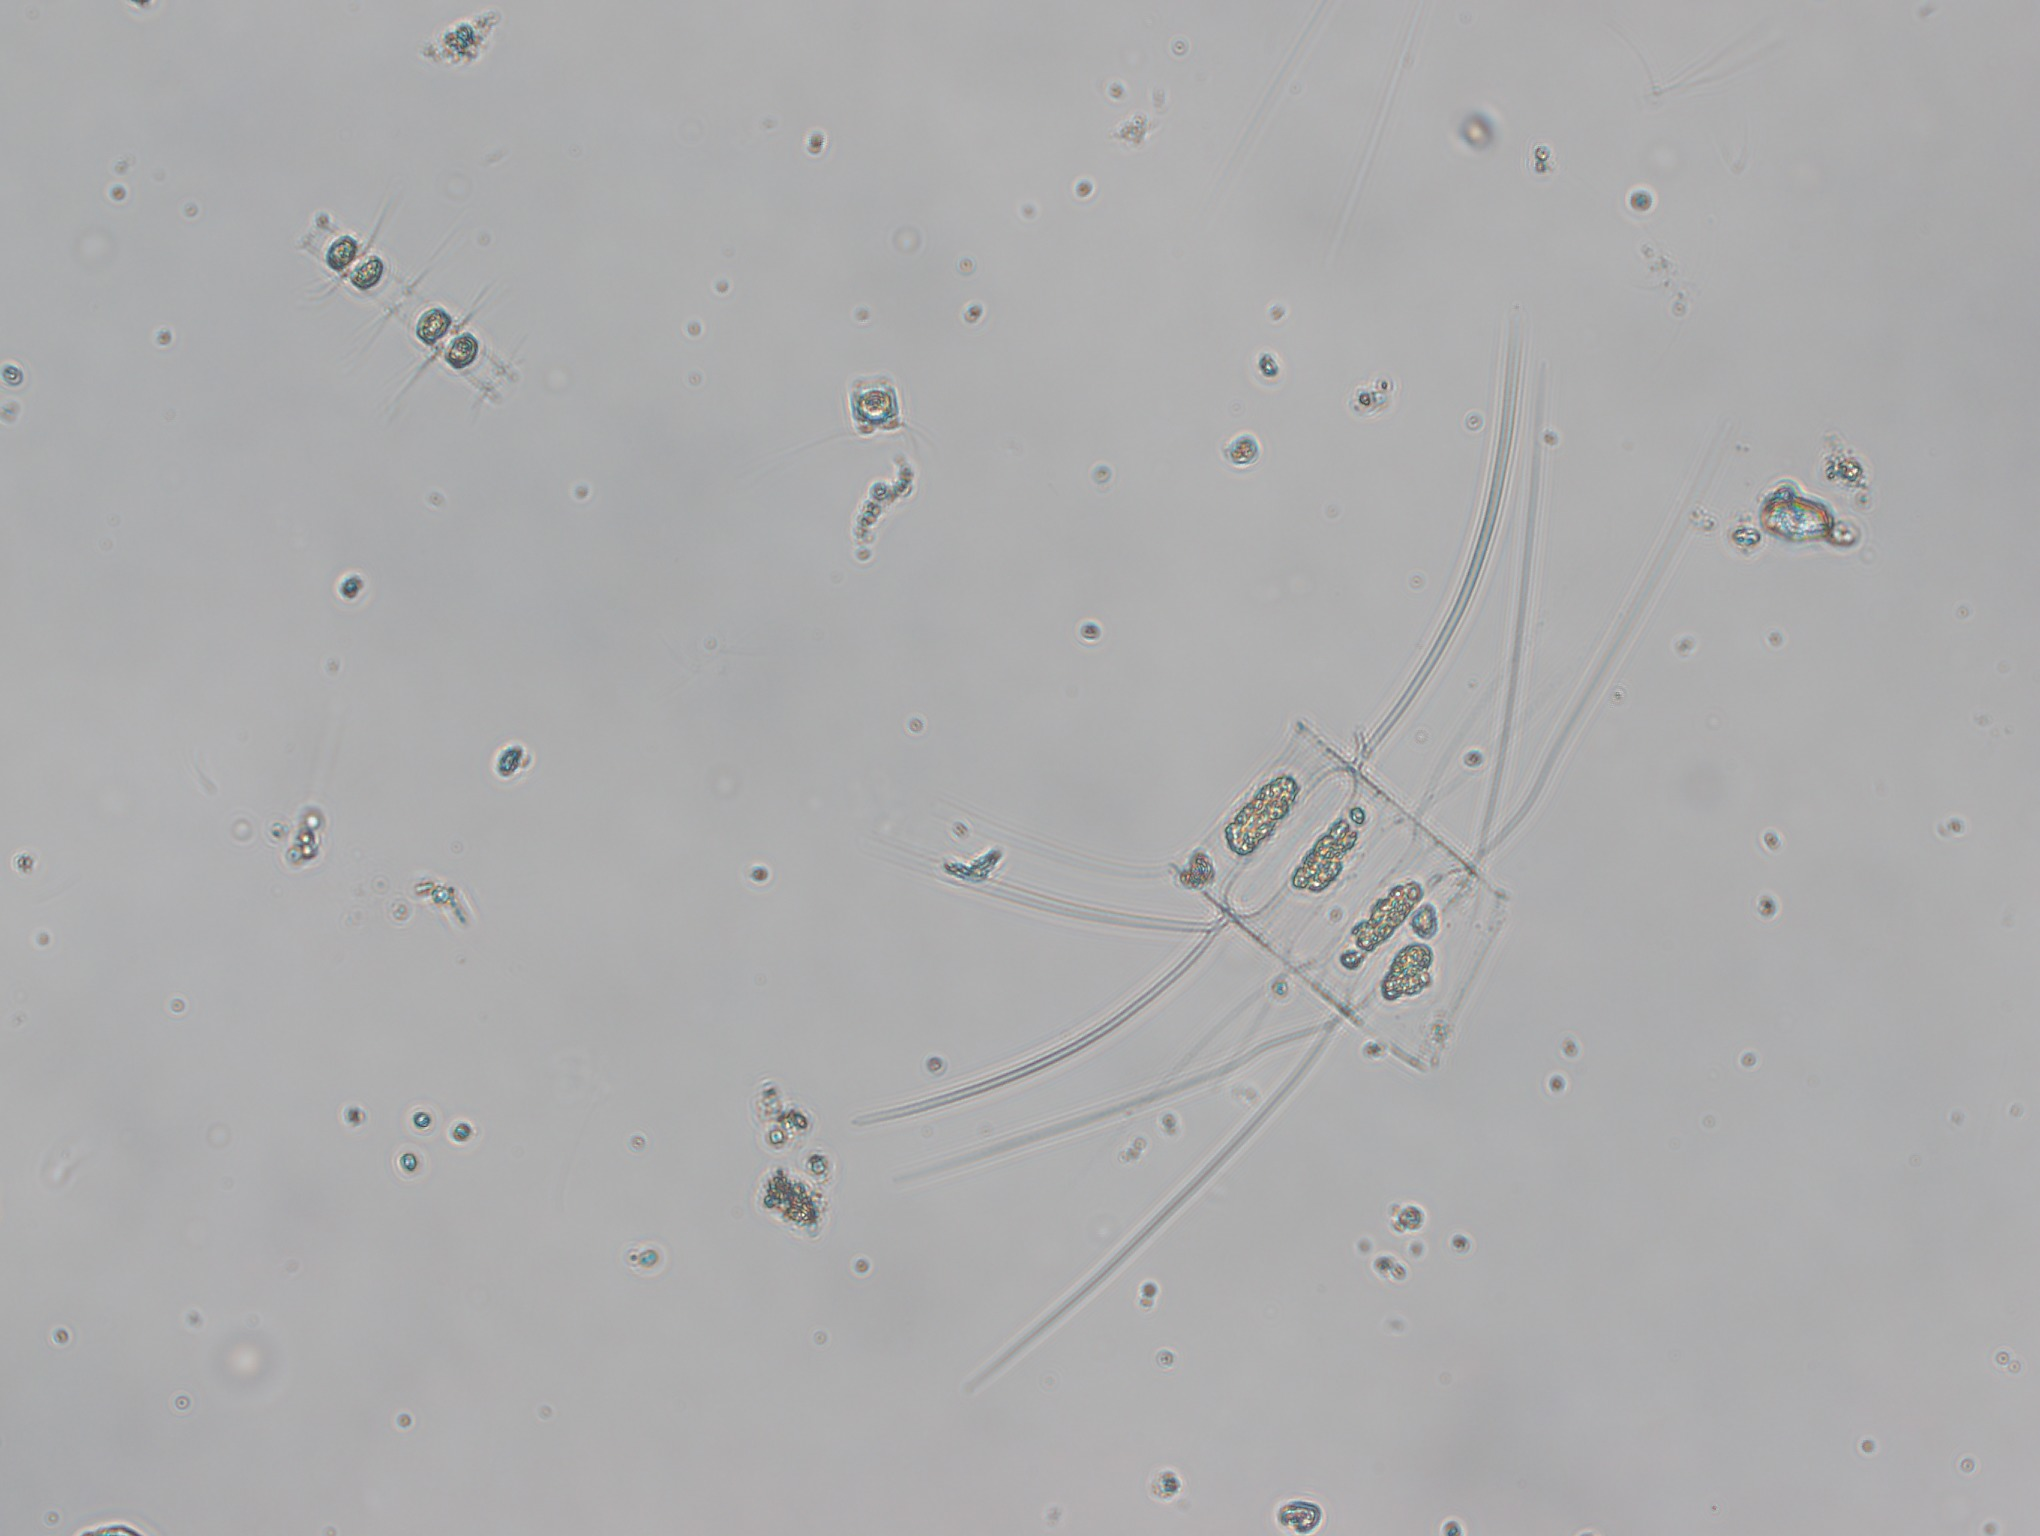chaetoceros: (860, 334, 1729, 1394), (287, 197, 526, 413)
